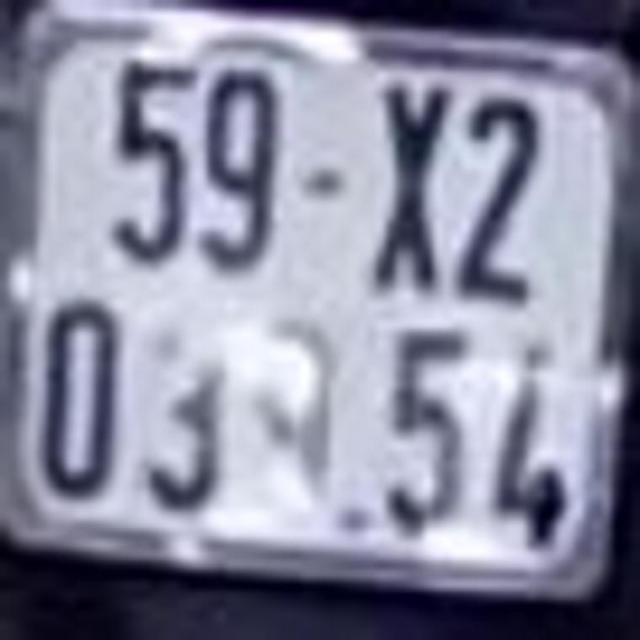0: (34, 296, 124, 498)
2: (459, 92, 539, 306)
3: (142, 304, 228, 515)
4: (490, 331, 570, 552)
5: (383, 316, 467, 544), (115, 52, 196, 266)
9: (204, 61, 278, 276)
X: (370, 72, 452, 300)
